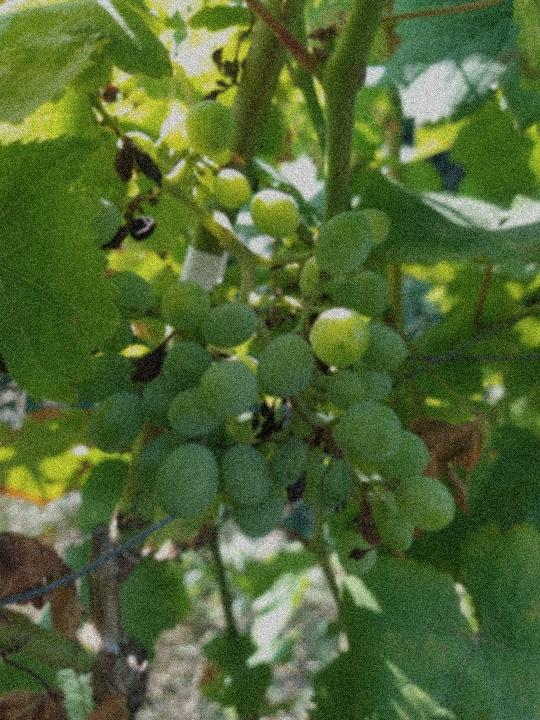grape: (77, 98, 457, 578)
